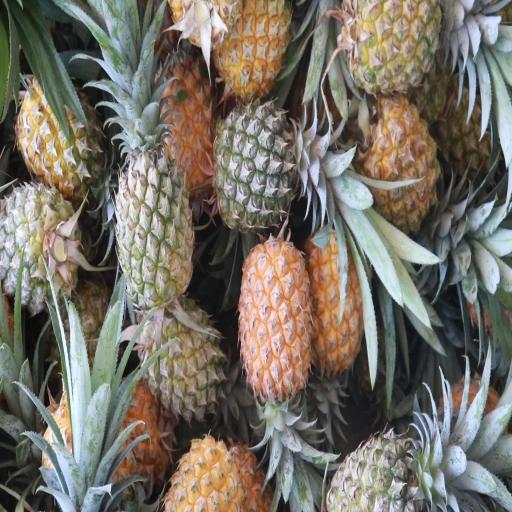------------------------------: (114, 130, 193, 300), (139, 304, 224, 418), (12, 76, 101, 183), (344, 0, 442, 92)
Pineapple - v8 v1: (241, 240, 317, 399), (364, 92, 442, 222), (310, 228, 372, 374), (156, 53, 218, 183), (217, 0, 290, 100)
